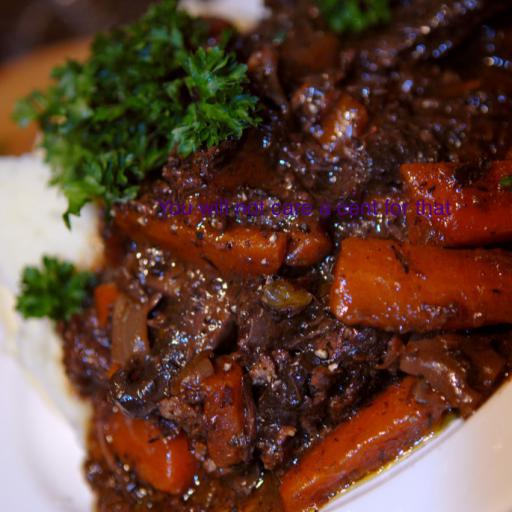Impact: (157, 199, 451, 216)
